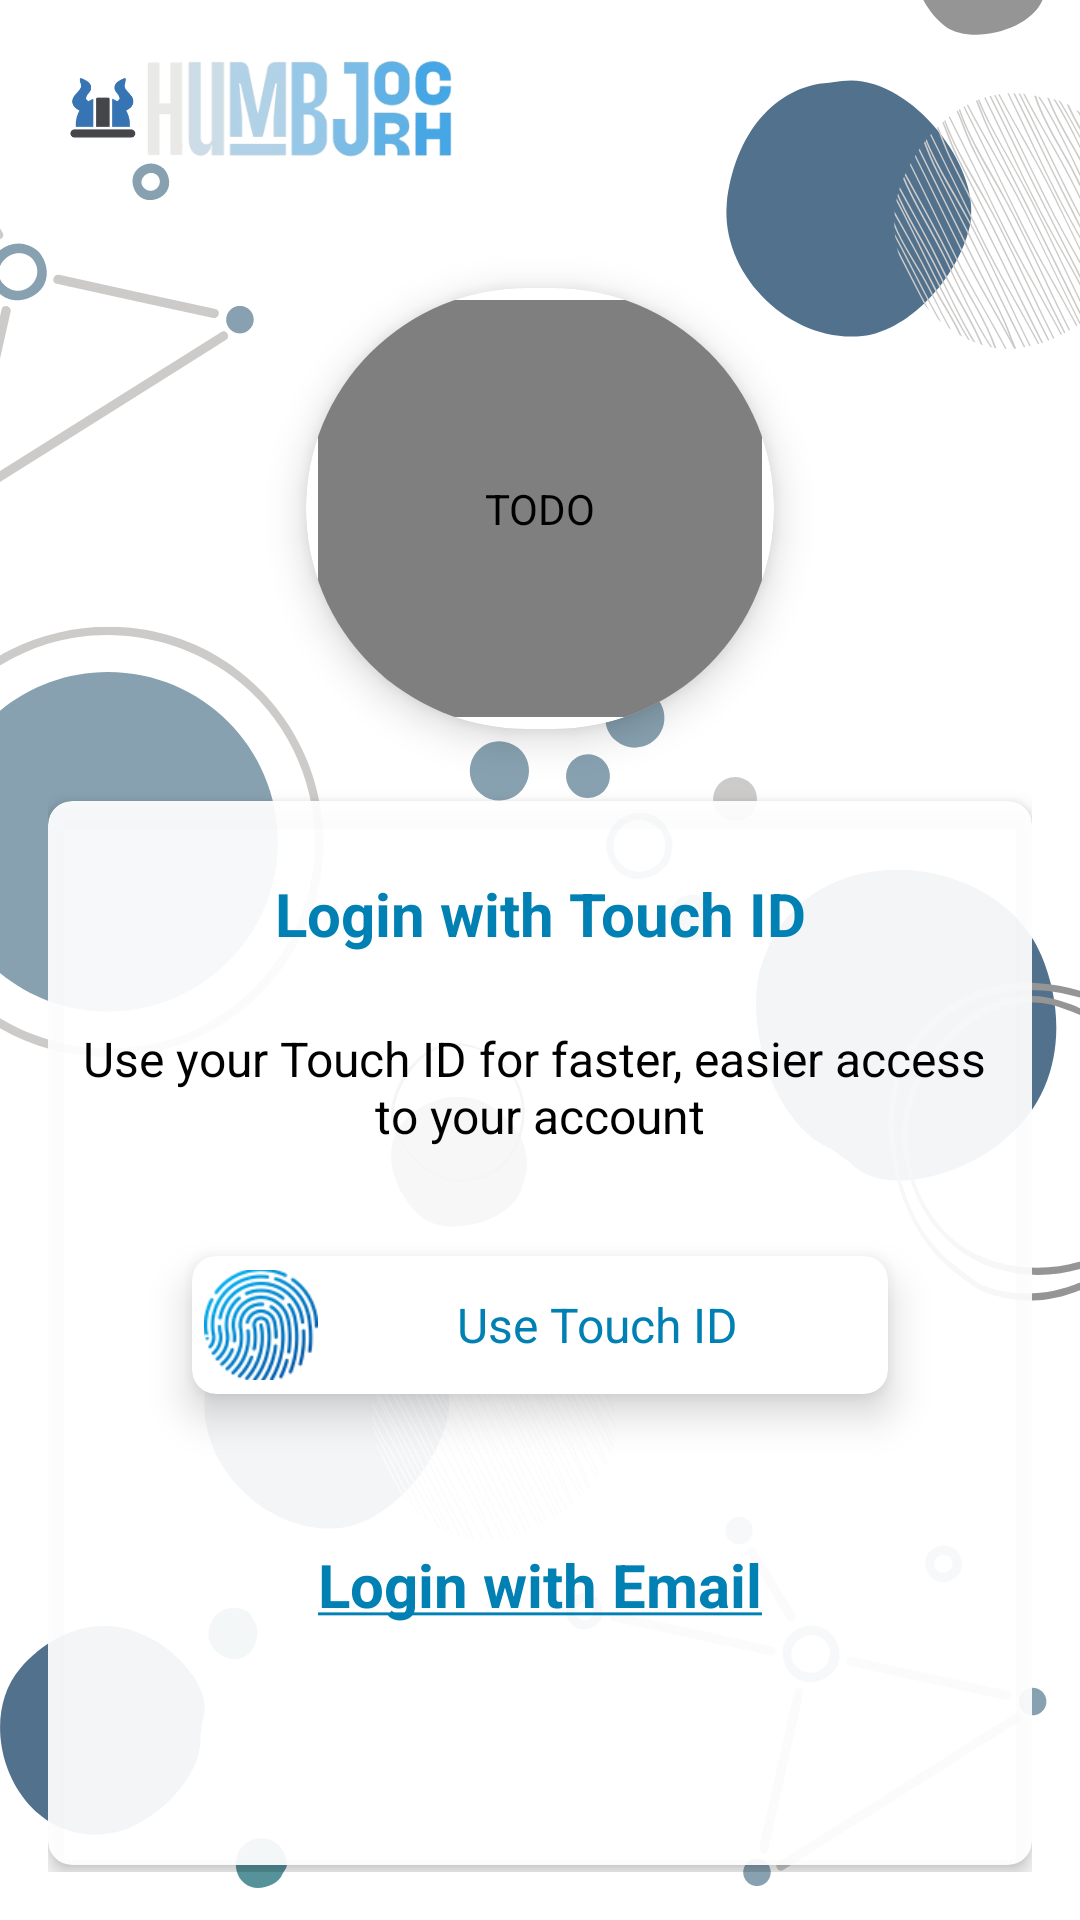

Icon click points for this 1080 x 1920 phone screenshot, format point (x, y):
fingerprint: point (261, 1325)
